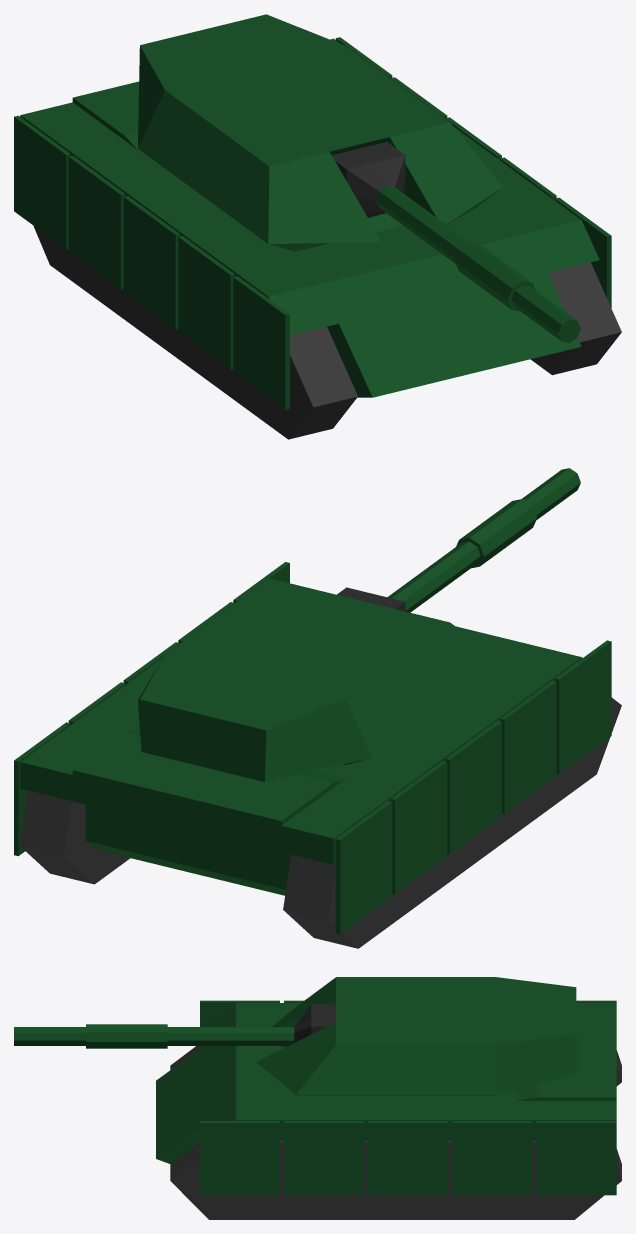
Rendered from Tank.fbx.
3 renders of one model, top to bottom at view 1: azimuth 30°, elevation 25°; view 2: azimuth 150°, elevation 25°; view 3: azimuth 270°, elevation 25°, orthographic. The views are drawn at different scales.
Visible parts, largest first — view 1: body, tower, right_track, gun, plate.005, plate.008, plate.006, plate.009, plate.004, left_track, plate.003; view 2: tower, body, right_track, gun, plate.004, left_track, plate.006, plate.005, plate.009, plate.008, plate.007; view 3: tower, body, left_track, gun, plate.007, plate, plate.001, plate.002, plate.003, plate.005, right_track.
Part boxes in pixels (left/top/right/bottom): body: left=20, top=38, right=599, bottom=397; tower: left=138, top=14, right=502, bottom=251; right_track: left=33, top=225, right=357, bottom=439; gun: left=332, top=142, right=580, bottom=342; plate.005: left=233, top=276, right=289, bottom=409; plate.008: left=123, top=196, right=180, bottom=329; plate.006: left=68, top=156, right=125, bottom=289; plate.009: left=178, top=236, right=234, bottom=369; plate.004: left=14, top=115, right=70, bottom=249; left_track: left=531, top=262, right=621, bottom=375; plate.003: left=555, top=197, right=611, bottom=308; tower: left=138, top=578, right=502, bottom=781; body: left=20, top=626, right=582, bottom=895; right_track: left=283, top=697, right=621, bottom=948; gun: left=337, top=468, right=580, bottom=612; plate.004: left=335, top=801, right=392, bottom=934; left_track: left=19, top=790, right=130, bottom=884; plate.006: left=390, top=761, right=447, bottom=894; plate.005: left=555, top=640, right=611, bottom=774; plate.009: left=500, top=680, right=556, bottom=814; plate.008: left=445, top=720, right=501, bottom=854; plate.007: left=14, top=722, right=70, bottom=856; tower: left=256, top=977, right=576, bottom=1095; body: left=156, top=1003, right=616, bottom=1163; left_track: left=170, top=1140, right=621, bottom=1219; gun: left=14, top=1004, right=335, bottom=1048; plate.007: left=536, top=1121, right=616, bottom=1195; plate: left=368, top=1121, right=448, bottom=1195; plate.001: left=284, top=1121, right=364, bottom=1195; plate.002: left=452, top=1121, right=532, bottom=1195; plate.003: left=200, top=1121, right=279, bottom=1195; plate.005: left=200, top=1000, right=279, bottom=1026; right_track: left=170, top=1046, right=621, bottom=1086.
Size of the model in its own units: 722 by 416 by 1518.
